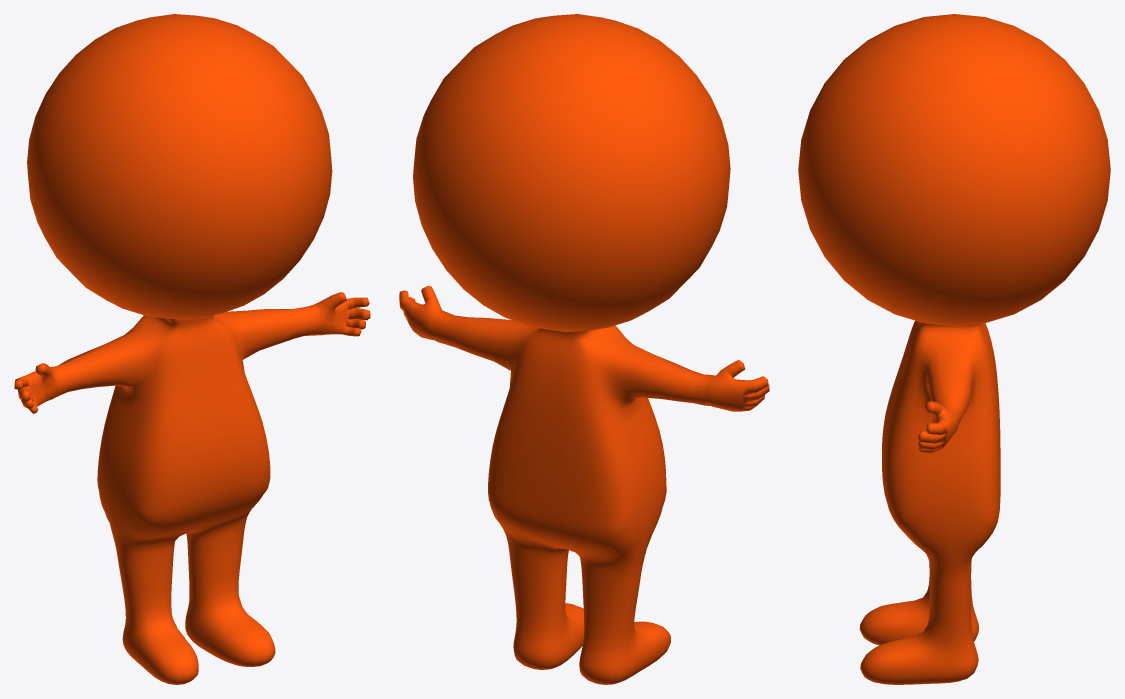
File: man.fbx
3 renders of one model, left to right at view 1: azimuth 30°, elevation 25°; view 2: azimuth 150°, elevation 25°; view 3: azimuth 270°, elevation 25°, orthographic. The views are drawn at different scales.
Parts seen in each view (by area): view 1: Sphere001; view 2: Sphere001; view 3: Sphere001.
Boxes of the visible parts, bbox=[...] form: Sphere001: bbox=[14, 14, 370, 684]; Sphere001: bbox=[399, 14, 769, 684]; Sphere001: bbox=[798, 14, 1110, 684].
Size of the model in its own units: 71.83 by 120 by 53.59.
